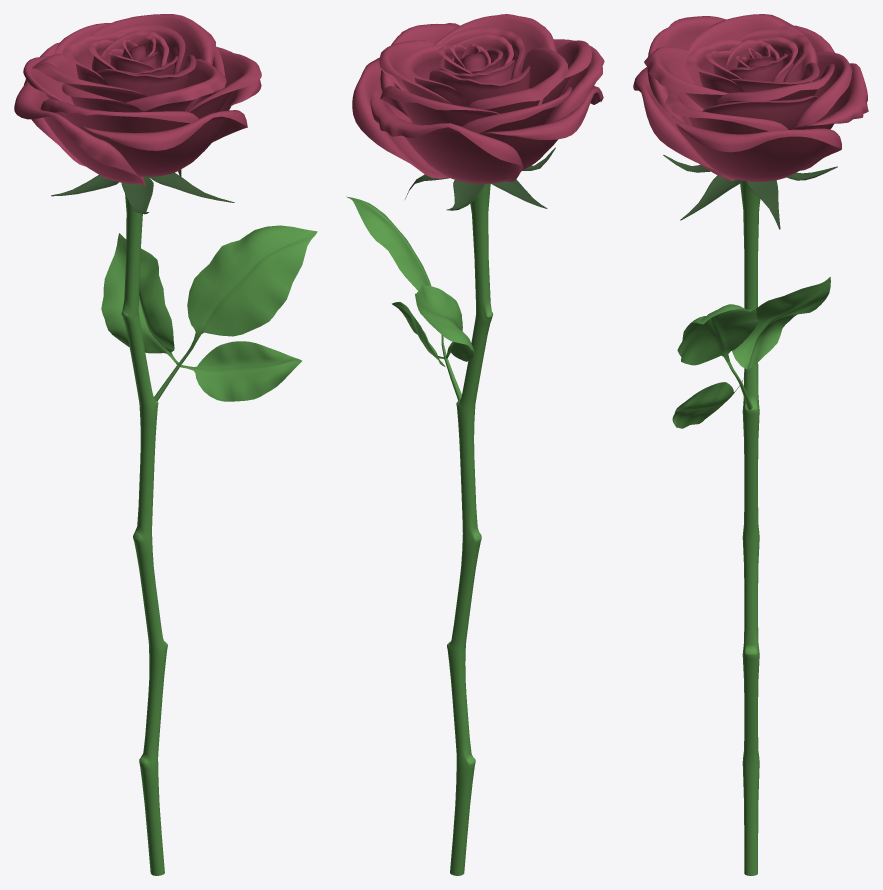
The model's file is rose4.obj.
3 views of the same model, side by side, from view 1: azimuth 30°, elevation 25°; view 2: azimuth 150°, elevation 25°; view 3: azimuth 270°, elevation 25° (orthographic). The views are drawn at different scales.
Visible parts, largest first — view 1: rose_petal, rose_leaves_001, rose_stem, rose_leaves_004; view 2: rose_petal, rose_stem, rose_leaves_001, rose_leaves_004; view 3: rose_petal, rose_stem, rose_leaves_001, rose_leaves_004.
Part boxes in pixels (x1,y1,x2,y2): rose_petal: [14, 14, 261, 185]; rose_leaves_001: [101, 225, 317, 401]; rose_stem: [121, 194, 167, 875]; rose_leaves_004: [51, 169, 234, 214]; rose_petal: [352, 14, 604, 183]; rose_stem: [447, 183, 493, 875]; rose_leaves_001: [346, 196, 474, 400]; rose_leaves_004: [405, 147, 555, 210]; rose_petal: [633, 14, 868, 181]; rose_stem: [740, 181, 760, 875]; rose_leaves_001: [672, 277, 830, 428]; rose_leaves_004: [663, 155, 837, 229].
Size of the model in its own units: 16.1 by 48.66 by 12.72.
